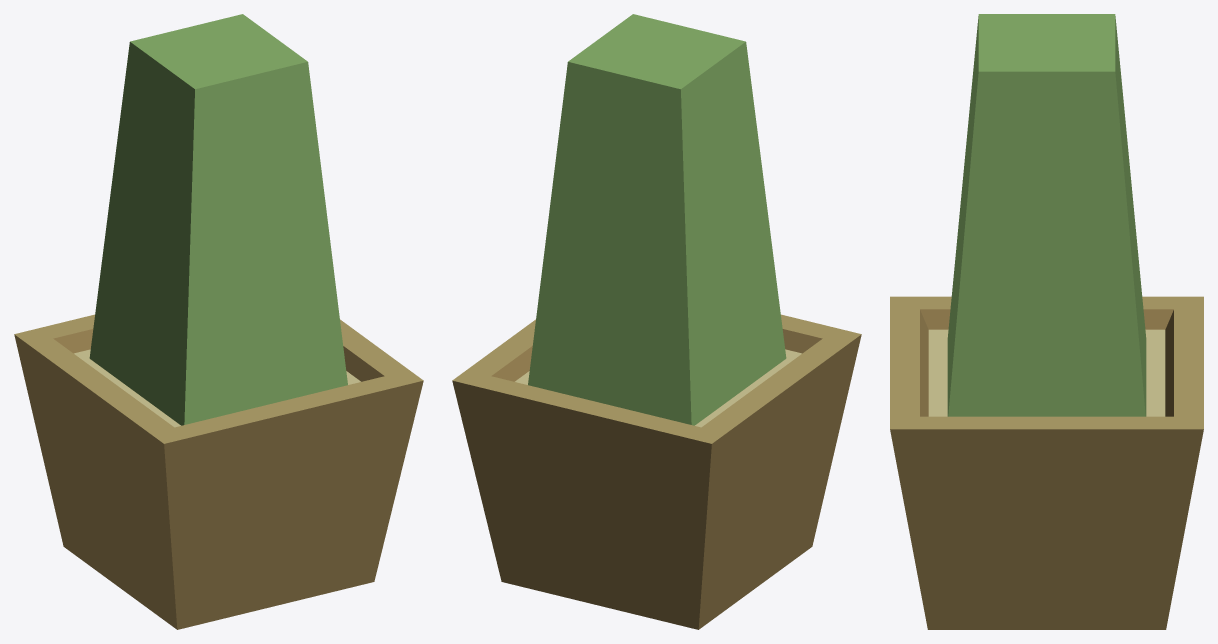
The model's file is vegetation_003.fbx.
The picture shows the model from 3 angles, left to right: view 1: azimuth 30°, elevation 25°; view 2: azimuth 150°, elevation 25°; view 3: azimuth 270°, elevation 25°; orthographic projection. The views are drawn at different scales.
Visible parts, largest first — view 1: vegetation_003; view 2: vegetation_003; view 3: vegetation_003.
Boxes of the visible parts, x1,y1,x2,y2 form: vegetation_003: (14,14,423,629); vegetation_003: (452,14,861,629); vegetation_003: (890,14,1203,629).
Size of the model in its own units: 77.61 by 146 by 77.61.
